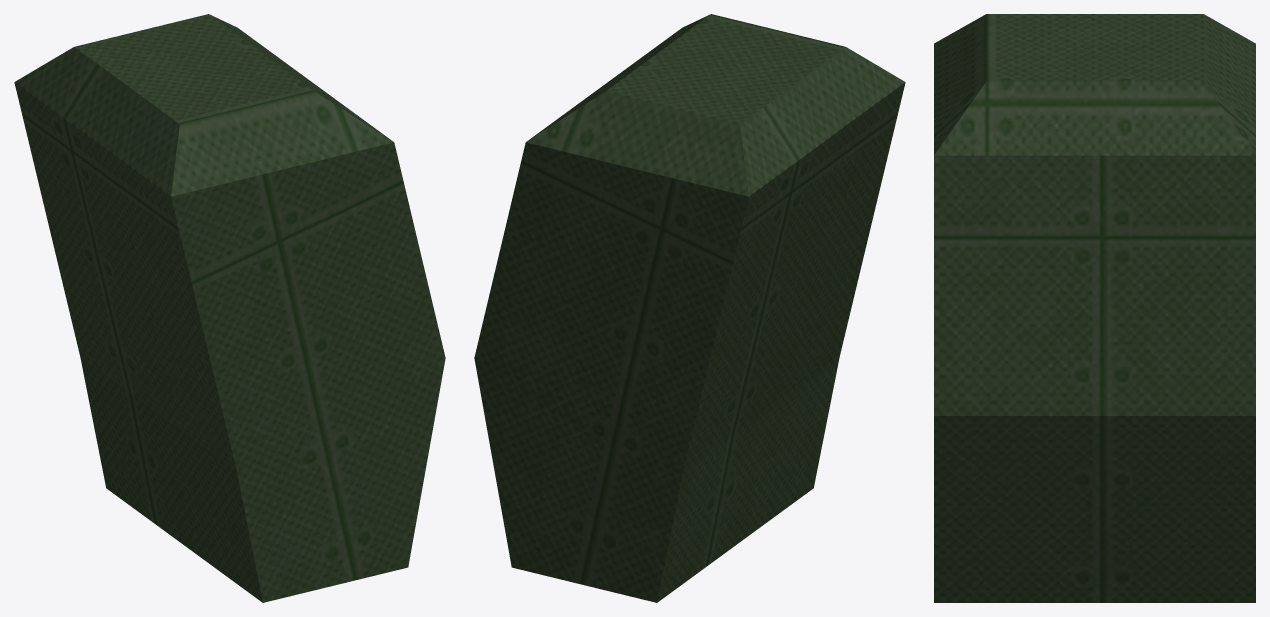
The model's file is muslo_izq.obj.
3 renders of one model, left to right at view 1: azimuth 30°, elevation 25°; view 2: azimuth 150°, elevation 25°; view 3: azimuth 270°, elevation 25°, orthographic. The views are drawn at different scales.
Parts seen in each view (by area): view 1: muslo_izq; view 2: muslo_izq; view 3: muslo_izq.
Boxes of the visible parts, left/top/right/bottom form: muslo_izq: left=14, top=14, right=445, bottom=602; muslo_izq: left=474, top=14, right=905, bottom=602; muslo_izq: left=934, top=14, right=1255, bottom=602.
Size of the model in its own units: 2.02 by 3.34 by 2.
Materials: 1 (1 with a texture image).
